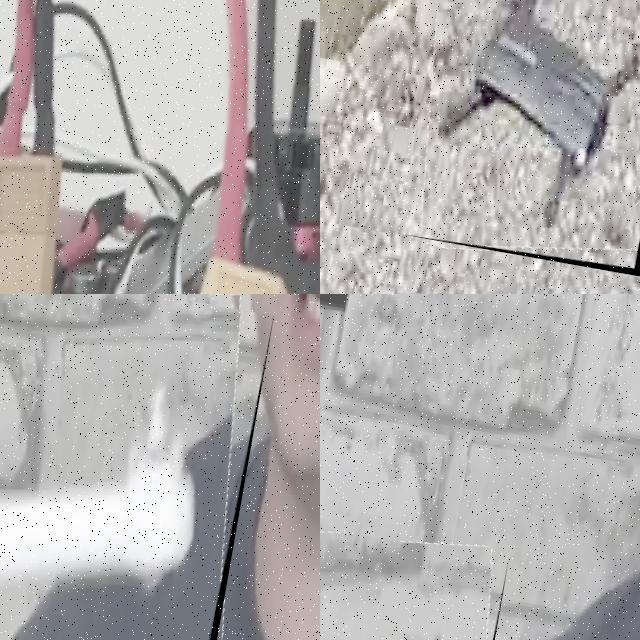drone: (0, 294, 273, 640), (0, 0, 320, 294), (397, 0, 640, 276), (320, 494, 508, 640)
